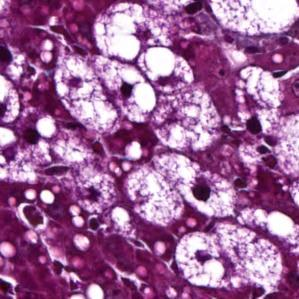ballooning: (122, 150, 239, 229), (54, 49, 160, 136), (174, 221, 285, 295)
